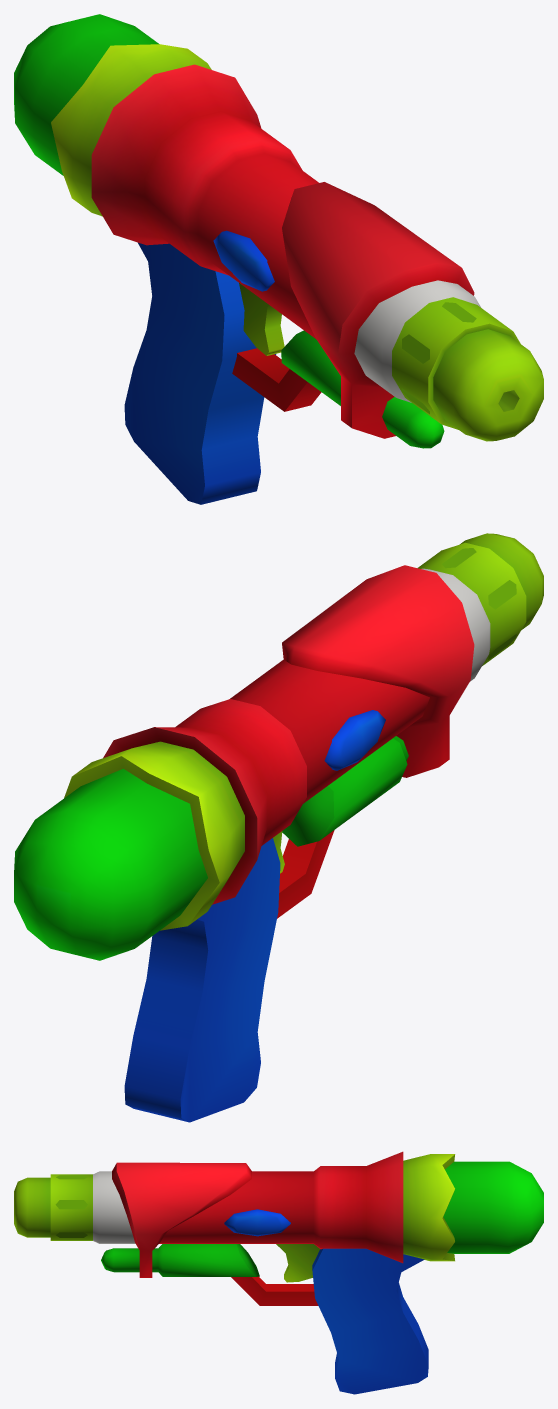
Rendered from waterPistol.fbx.
The picture shows the model from 3 angles, top to bottom: view 1: azimuth 30°, elevation 25°; view 2: azimuth 150°, elevation 25°; view 3: azimuth 270°, elevation 25°; orthographic projection. The views are drawn at different scales.
Visible parts, largest first — view 1: waterPistol; view 2: waterPistol; view 3: waterPistol.
Boxes of the visible parts, left/top/right/bottom form: waterPistol: left=14, top=14, right=543, bottom=504; waterPistol: left=14, top=533, right=543, bottom=1122; waterPistol: left=14, top=1151, right=543, bottom=1394.
Size of the model in its own units: 6.13 by 13.92 by 29.16.
